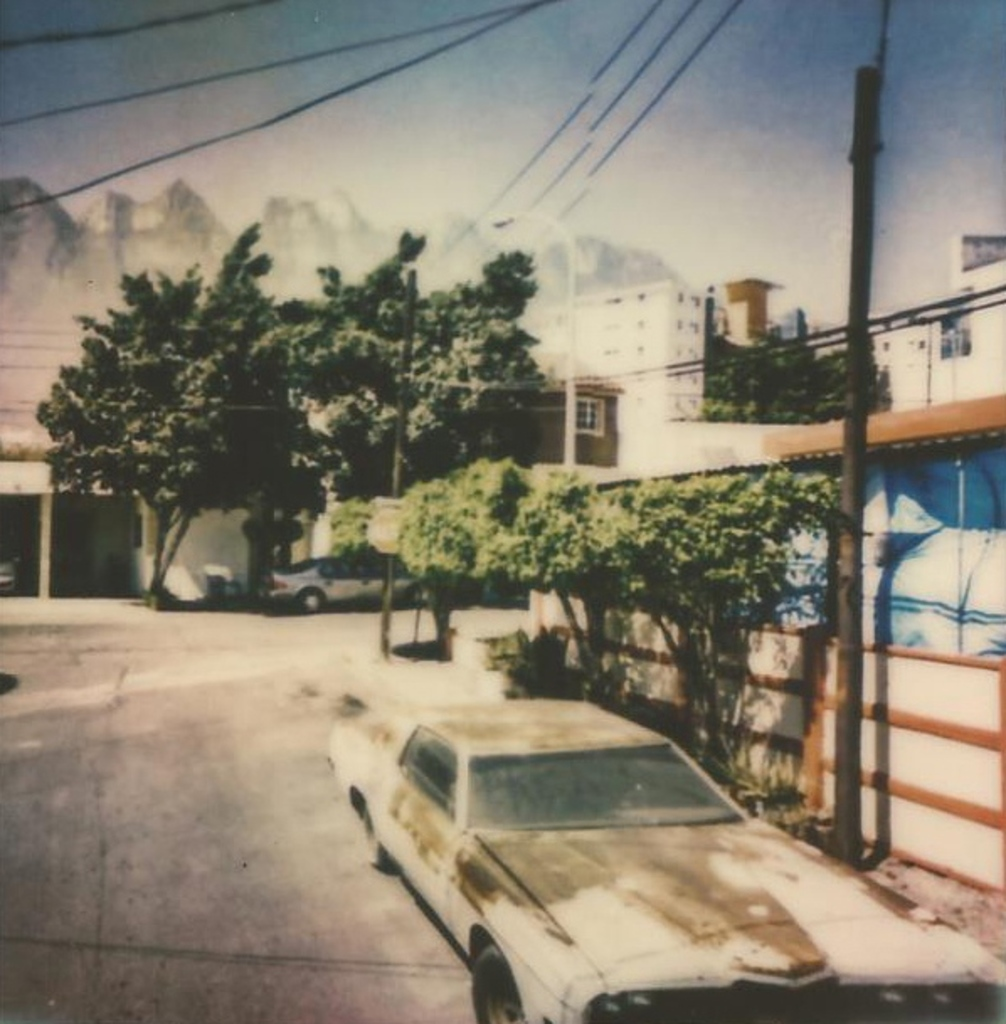Car: (353, 716, 888, 1024), (264, 548, 442, 608)
